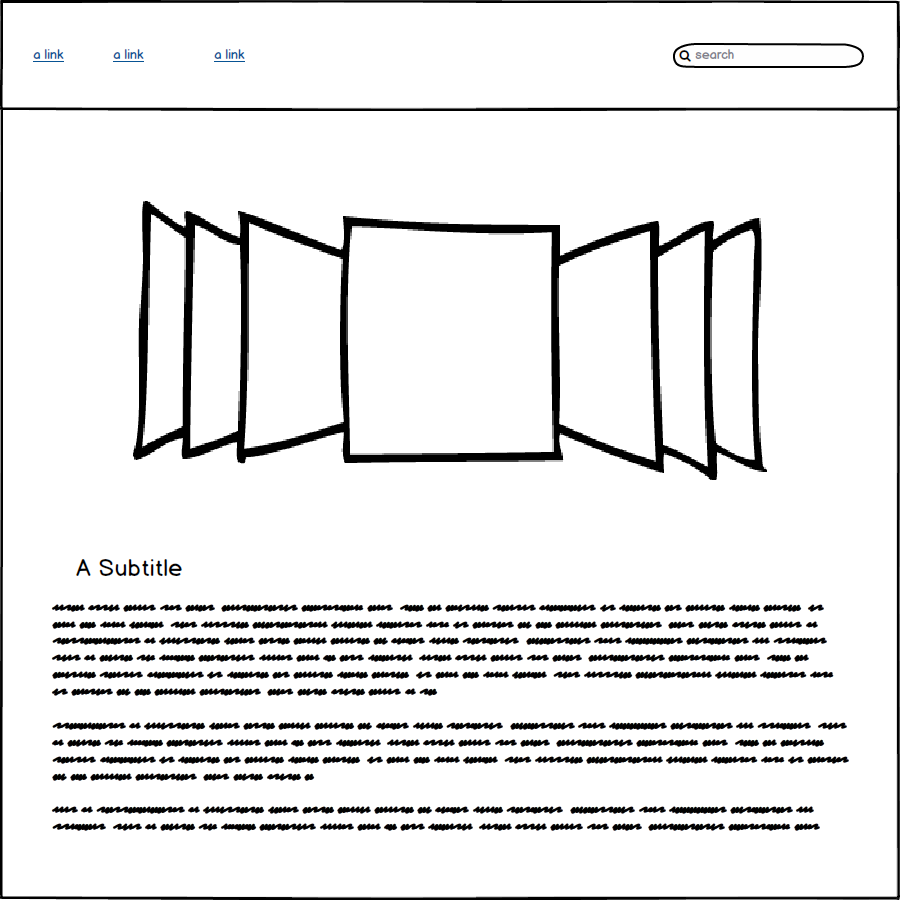h1: (70, 551, 194, 588)
navlink: (102, 38, 165, 69), (208, 38, 260, 71), (26, 40, 71, 67)
p: (35, 596, 857, 847)
search: (668, 34, 870, 77)
slideshow: (124, 192, 785, 495)
